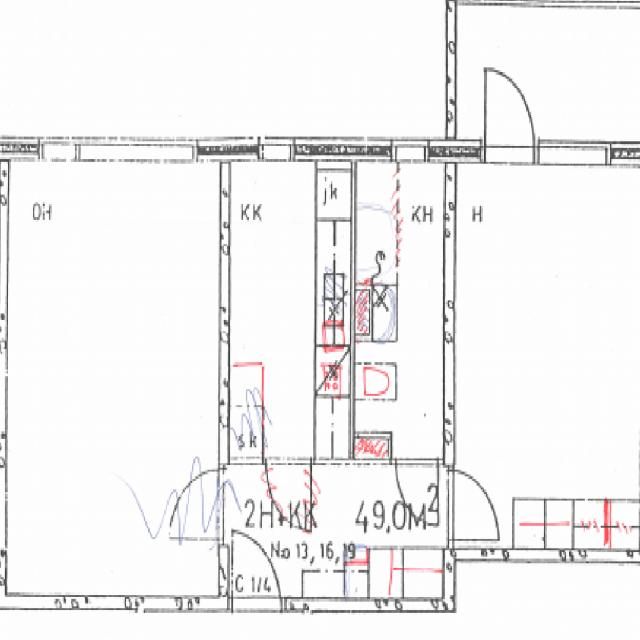door: (485, 62, 534, 161), (232, 520, 281, 611), (442, 471, 498, 540), (394, 458, 438, 530)
